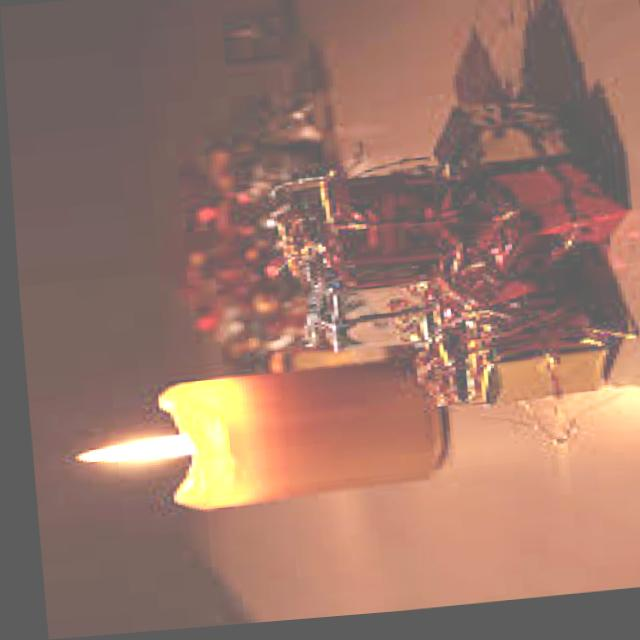Fire: (63, 424, 200, 473)
